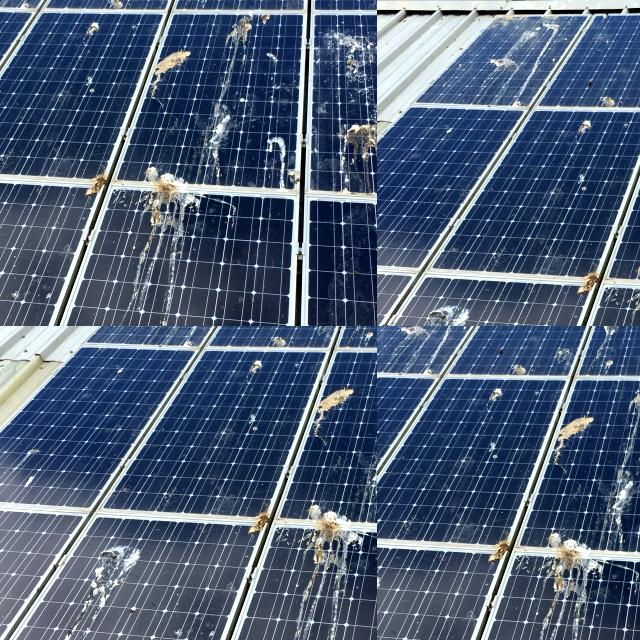bird: (538, 526, 613, 624), (391, 326, 474, 379), (377, 538, 413, 638), (480, 532, 530, 598), (540, 392, 588, 456), (598, 326, 640, 354), (70, 364, 98, 401), (73, 333, 109, 360), (14, 363, 40, 400), (51, 404, 92, 426), (133, 378, 155, 414), (100, 366, 119, 404), (48, 354, 67, 382), (113, 326, 151, 339), (632, 366, 640, 427), (0, 326, 13, 351), (66, 326, 98, 336), (64, 326, 92, 335), (0, 365, 12, 386), (23, 326, 42, 337), (0, 0, 8, 6), (0, 0, 8, 4), (0, 0, 5, 6), (0, 0, 7, 4), (0, 0, 5, 5), (0, 0, 4, 5)
dust: (415, 160, 530, 253), (433, 275, 539, 326), (560, 188, 628, 266), (463, 44, 528, 108), (377, 204, 406, 287)
